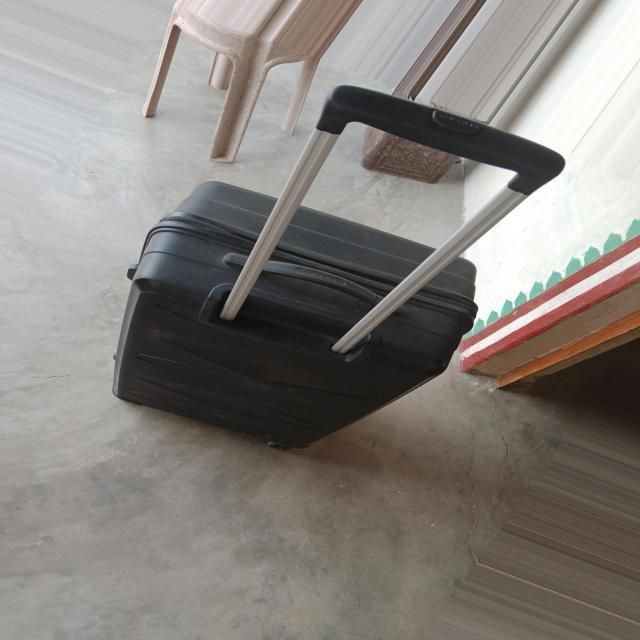Suitcase: (94, 62, 579, 460)
